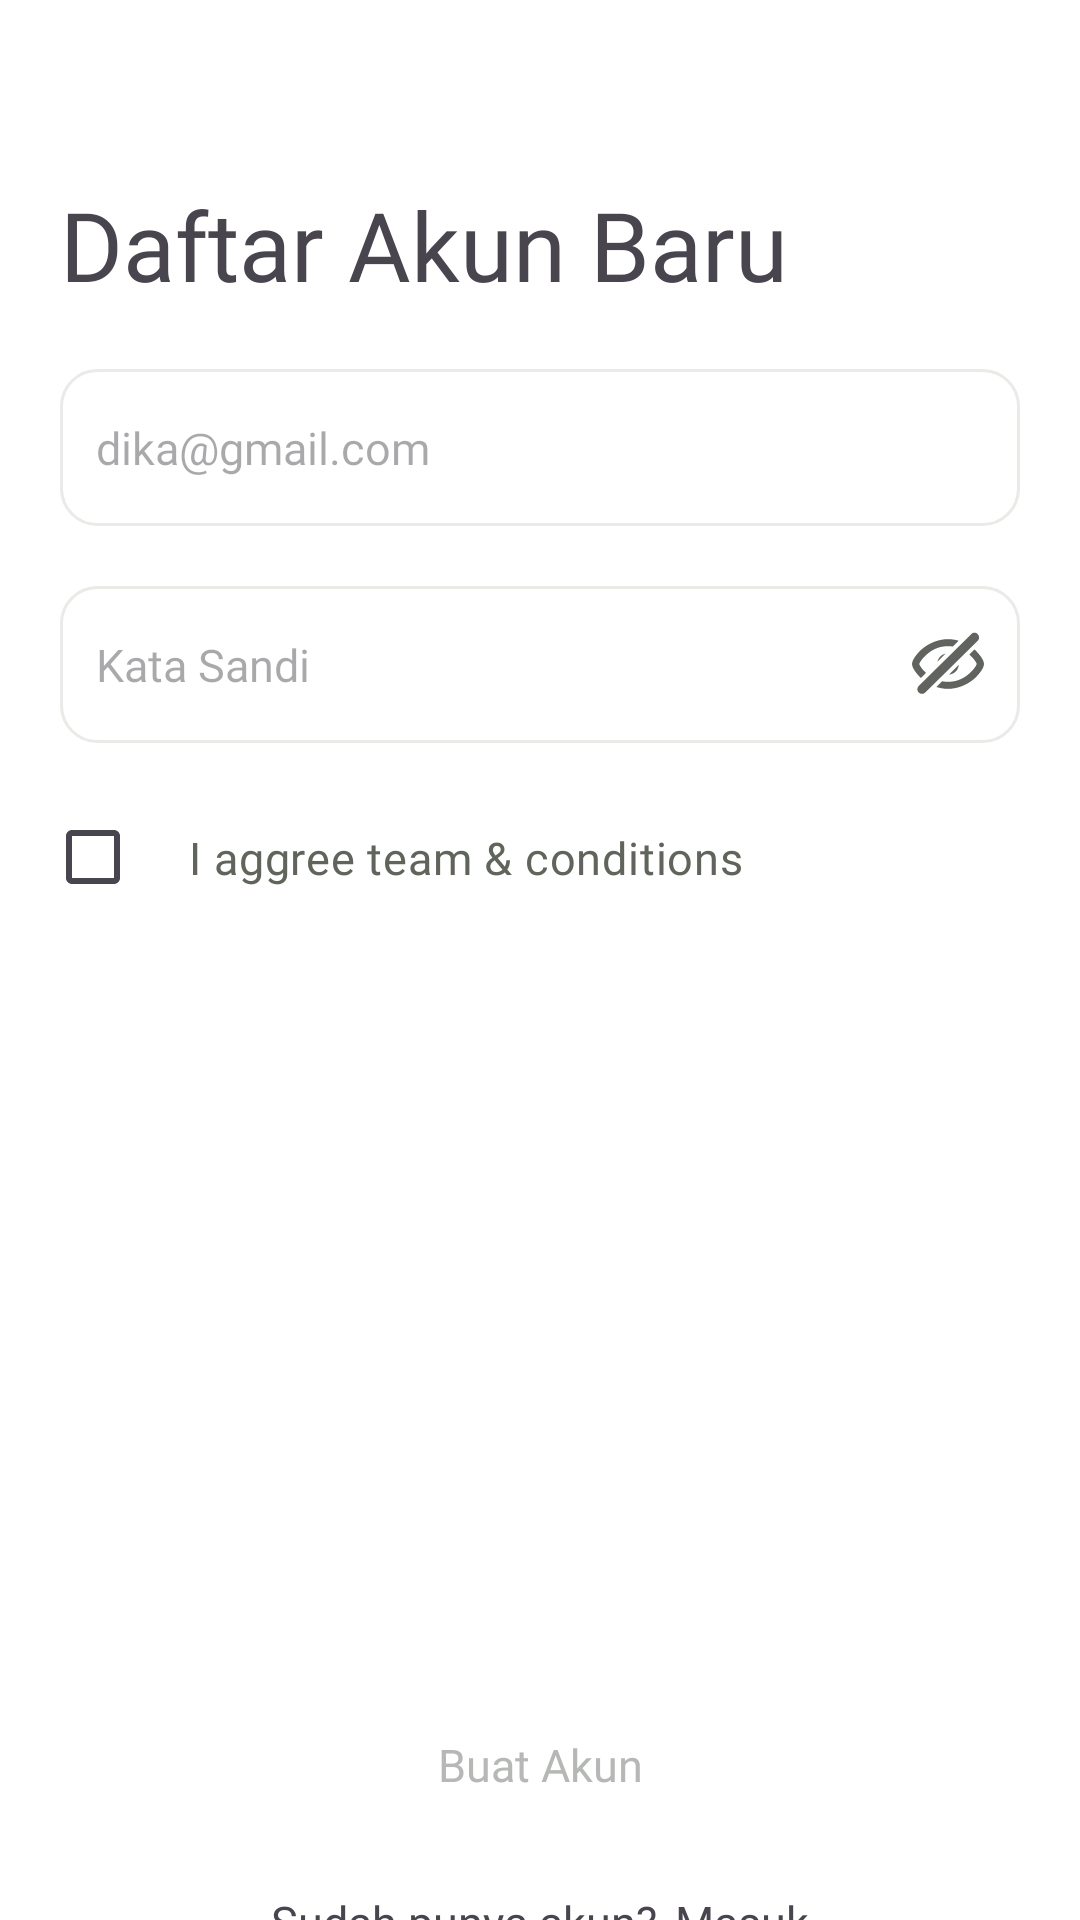

Where to tap for icons on this 1080px×1920px app screen, as (x=x, y=y):
eye closed: (x=948, y=663)
